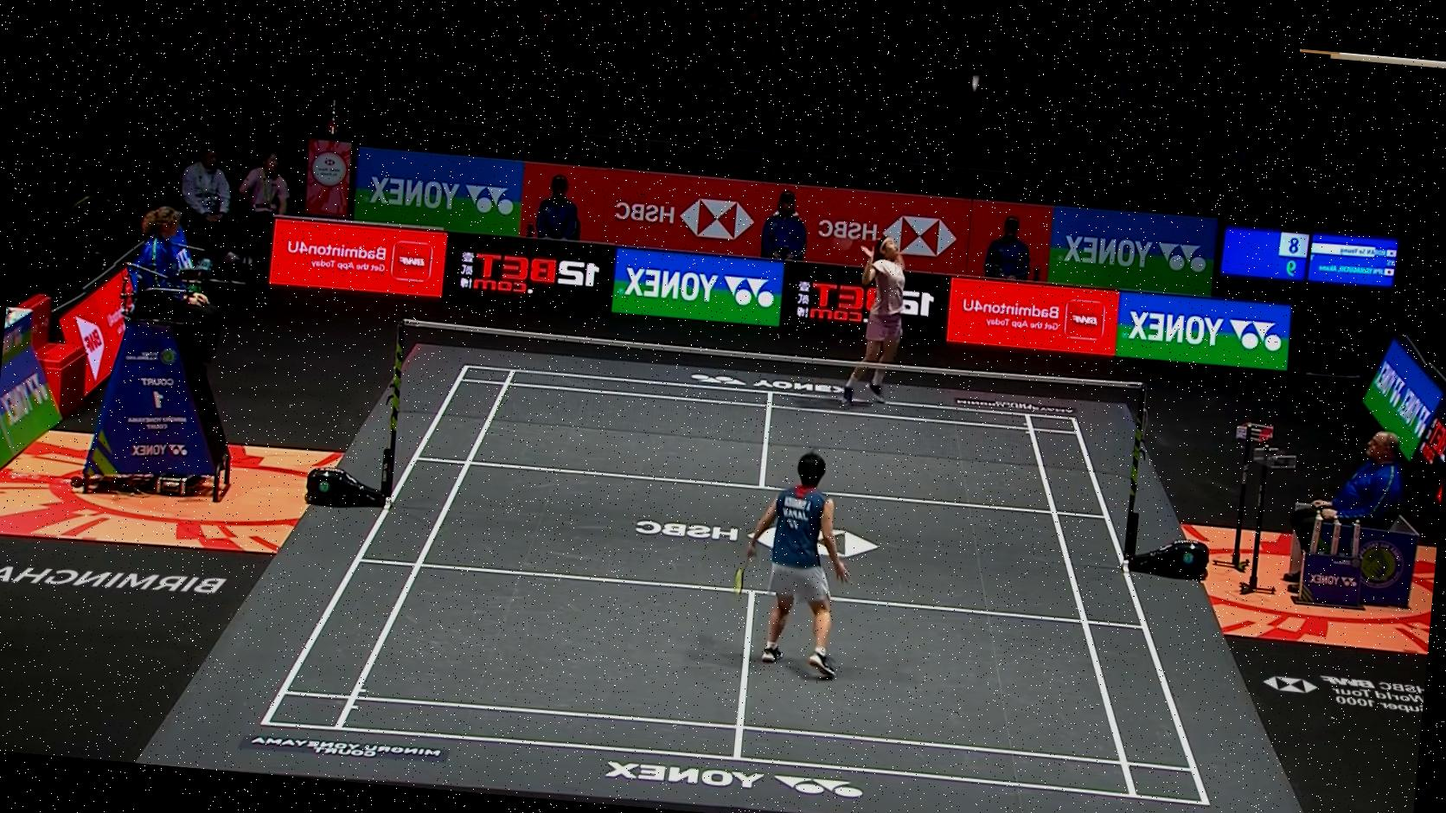Player 1: (823, 217, 924, 413)
Player 2: (718, 439, 868, 691)
shuttle: (962, 66, 986, 100)
